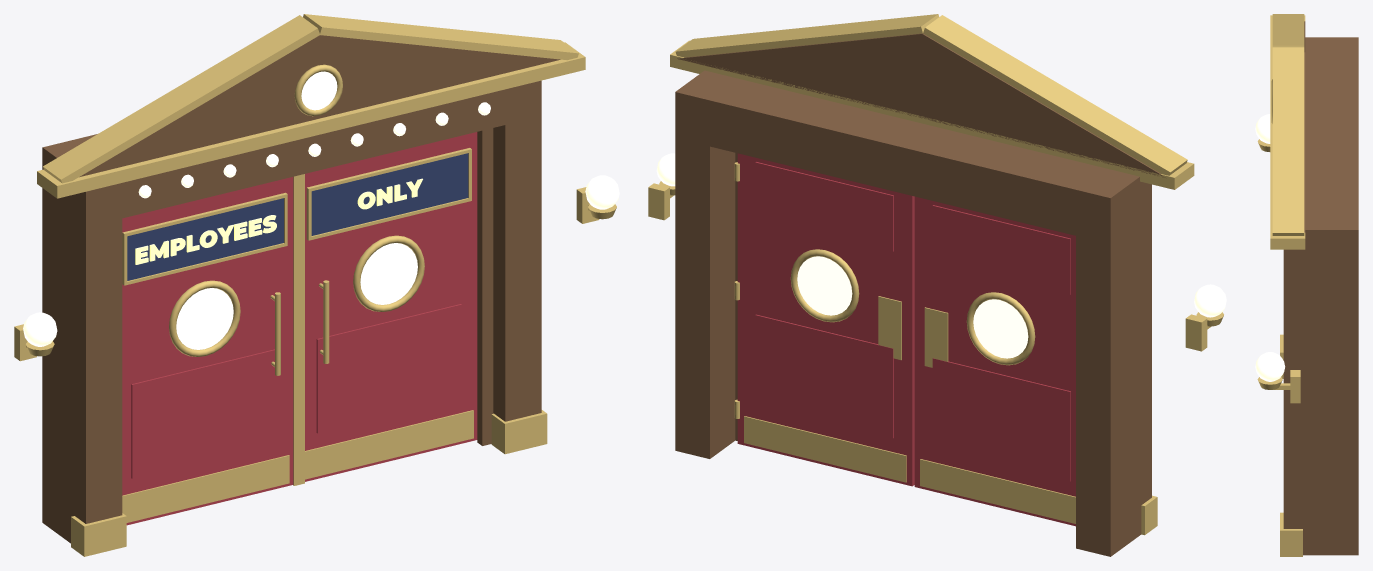
File: WChewsDoor_01.glb
3 renders of one model, left to right at view 1: azimuth 30°, elevation 25°; view 2: azimuth 150°, elevation 25°; view 3: azimuth 270°, elevation 25°, orthographic. The views are drawn at different scales.
Visible parts, largest first — view 1: WcDoubleDoor_Frame, WcDoubleDoor_LeafR, WcDoubleDoor_LeafL, WcDoubleDoor_Trim, WcDoubleDoor_LeafRBrass, WcDoubleDoor_LeafLBrass, WcDoubleDoor_LeafRPlate, WcDoubleDoor_LeafLPlate, WcDoubleDoor_Lamps, WcDoubleDoor_LeafRWindow, WcDoubleDoor_LeafLWindow, WcDoubleDoor_LeafLText (+1 smaller); view 2: WcDoubleDoor_Frame, WcDoubleDoor_LeafR, WcDoubleDoor_LeafL, WcDoubleDoor_Trim, WcDoubleDoor_LeafRBrass, WcDoubleDoor_LeafLBrass, WcDoubleDoor_LeafLWindow, WcDoubleDoor_LeafRWindow, WcDoubleDoor_Lamps; view 3: WcDoubleDoor_Frame, WcDoubleDoor_Trim, WcDoubleDoor_Lamps.
Boxes of the visible parts, left/top/right/bottom form: WcDoubleDoor_Frame: left=42, top=35, right=560, bottom=543; WcDoubleDoor_LeafR: left=305, top=132, right=477, bottom=481; WcDoubleDoor_LeafL: left=122, top=177, right=293, bottom=525; WcDoubleDoor_Trim: left=14, top=14, right=616, bottom=556; WcDoubleDoor_LeafRBrass: left=293, top=148, right=473, bottom=485; WcDoubleDoor_LeafLBrass: left=122, top=192, right=289, bottom=522; WcDoubleDoor_LeafRPlate: left=311, top=153, right=468, bottom=235; WcDoubleDoor_LeafLPlate: left=127, top=198, right=283, bottom=280; WcDoubleDoor_Lamps: left=23, top=71, right=619, bottom=346; WcDoubleDoor_LeafRWindow: left=360, top=243, right=417, bottom=304; WcDoubleDoor_LeafLWindow: left=176, top=288, right=233, bottom=349; WcDoubleDoor_LeafLText: left=135, top=215, right=276, bottom=264; WcDoubleDoor_Frame: left=675, top=33, right=1165, bottom=556; WcDoubleDoor_LeafR: left=737, top=153, right=914, bottom=486; WcDoubleDoor_LeafL: left=914, top=196, right=1075, bottom=526; WcDoubleDoor_Trim: left=648, top=14, right=1223, bottom=535; WcDoubleDoor_LeafRBrass: left=734, top=162, right=906, bottom=482; WcDoubleDoor_LeafLBrass: left=920, top=292, right=1075, bottom=523; WcDoubleDoor_LeafLWindow: left=973, top=299, right=1028, bottom=358; WcDoubleDoor_LeafRWindow: left=797, top=256, right=852, bottom=315; WcDoubleDoor_Lamps: left=656, top=153, right=1226, bottom=317; WcDoubleDoor_Frame: left=1283, top=21, right=1358, bottom=555; WcDoubleDoor_Trim: left=1257, top=14, right=1305, bottom=556; WcDoubleDoor_Lamps: left=1255, top=114, right=1285, bottom=381.
Size of the model in its own units: 24.41 by 18.76 by 4.27.
